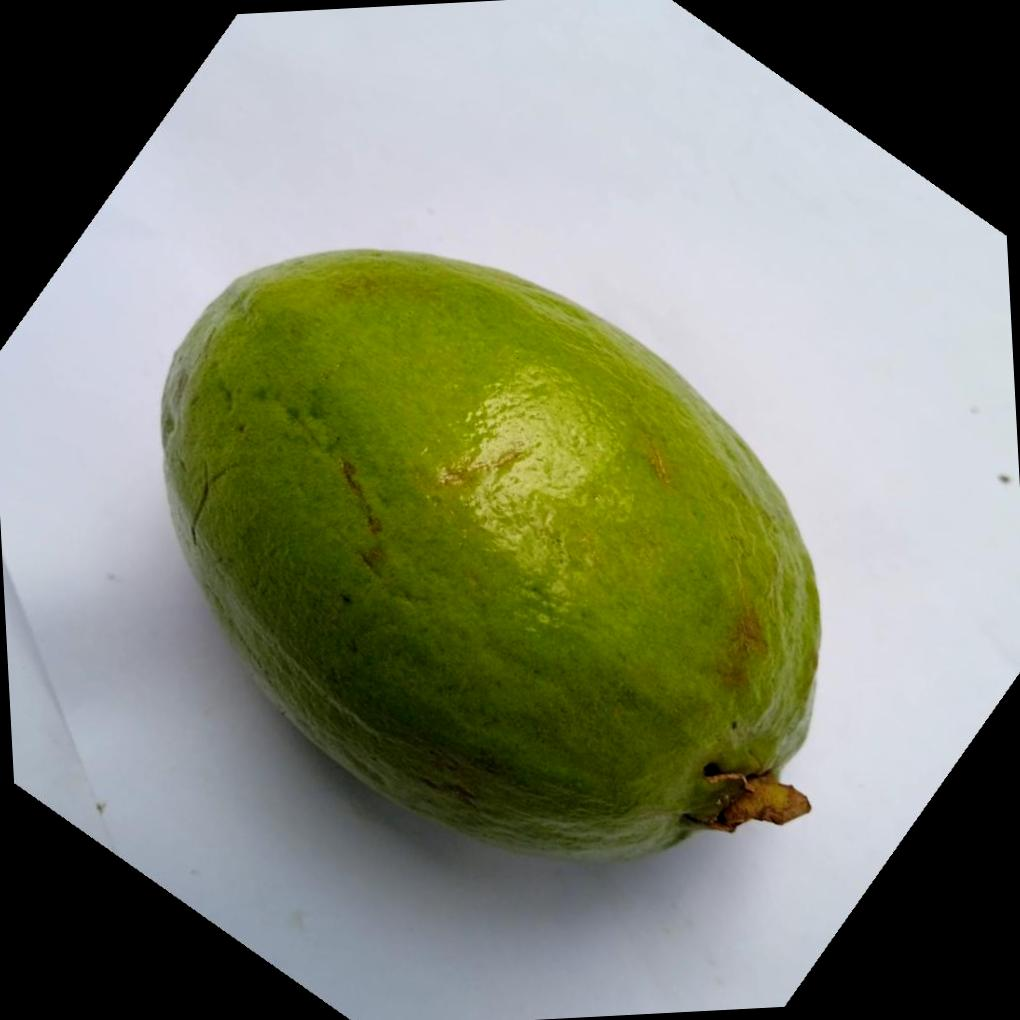FreshGuava: (157, 249, 821, 867)
